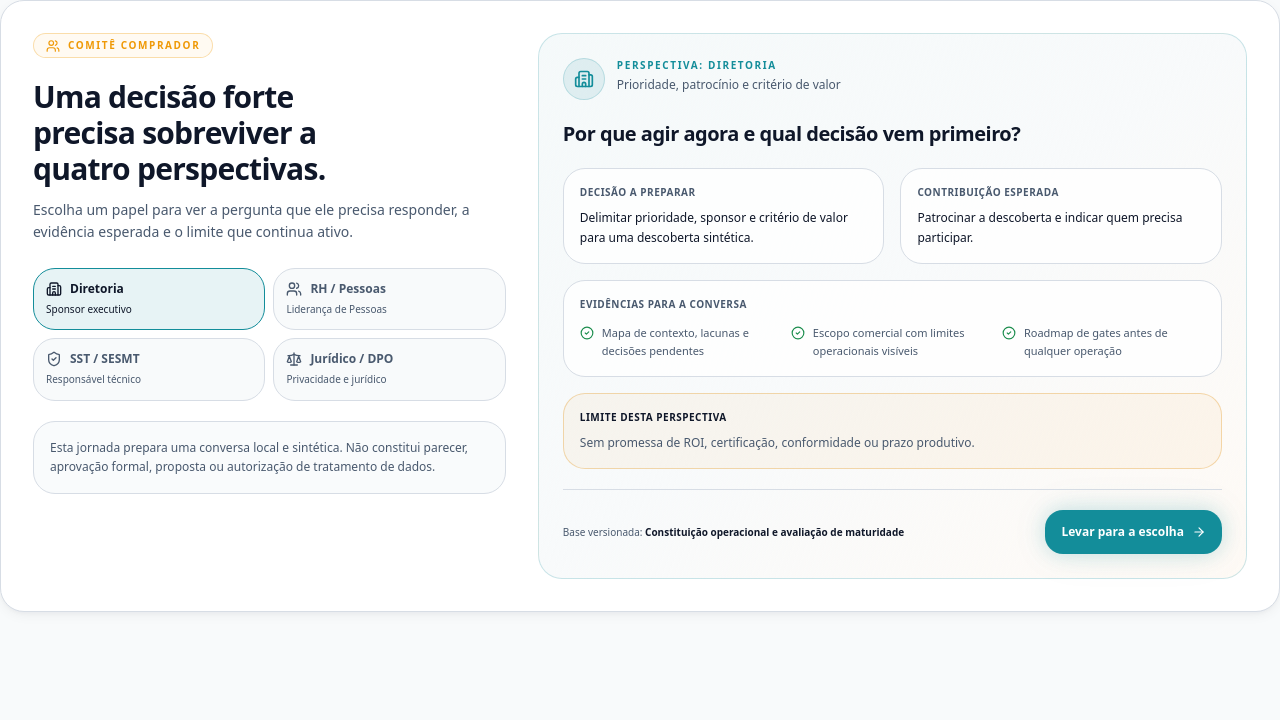
BuyerCommitteeJourney › separates the four buyer perspectives without presenting alignment as approval
The width and height of the screenshot is (1280, 720).
Expected: the element named "Escolha a perspectiva do comitê comprador" is shown, [33,268,506,400]
Expected: the heading "Por que agir agora e qual decisão vem primeiro?" is shown, [563,120,1020,147]
Click the button "Jurídico / DPO Privacidade e jurídico" at point(390, 369), box [273,338,506,401]
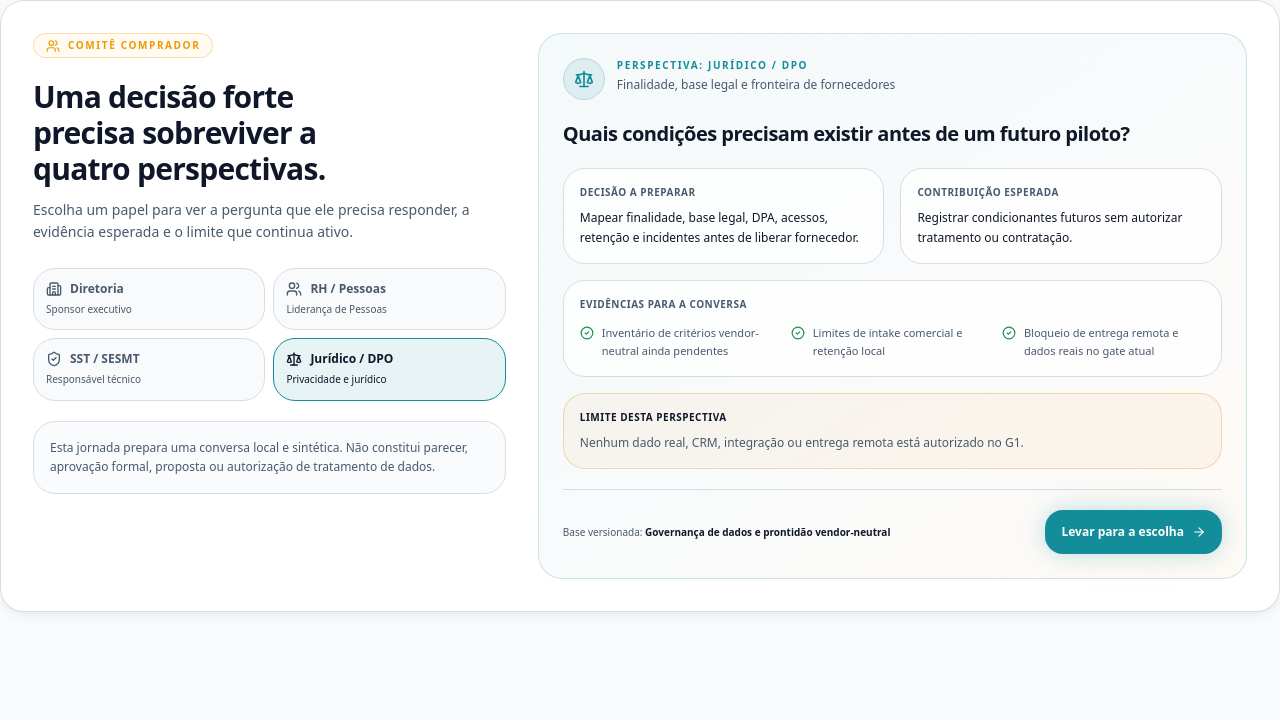
Result: the heading "Quais condições precisam existir antes de um futuro piloto?" is shown at [563,120,1222,148]
Result: the text "Nenhum dado real, CRM, integração ou entrega remota" is shown at [580,434,1024,451]
